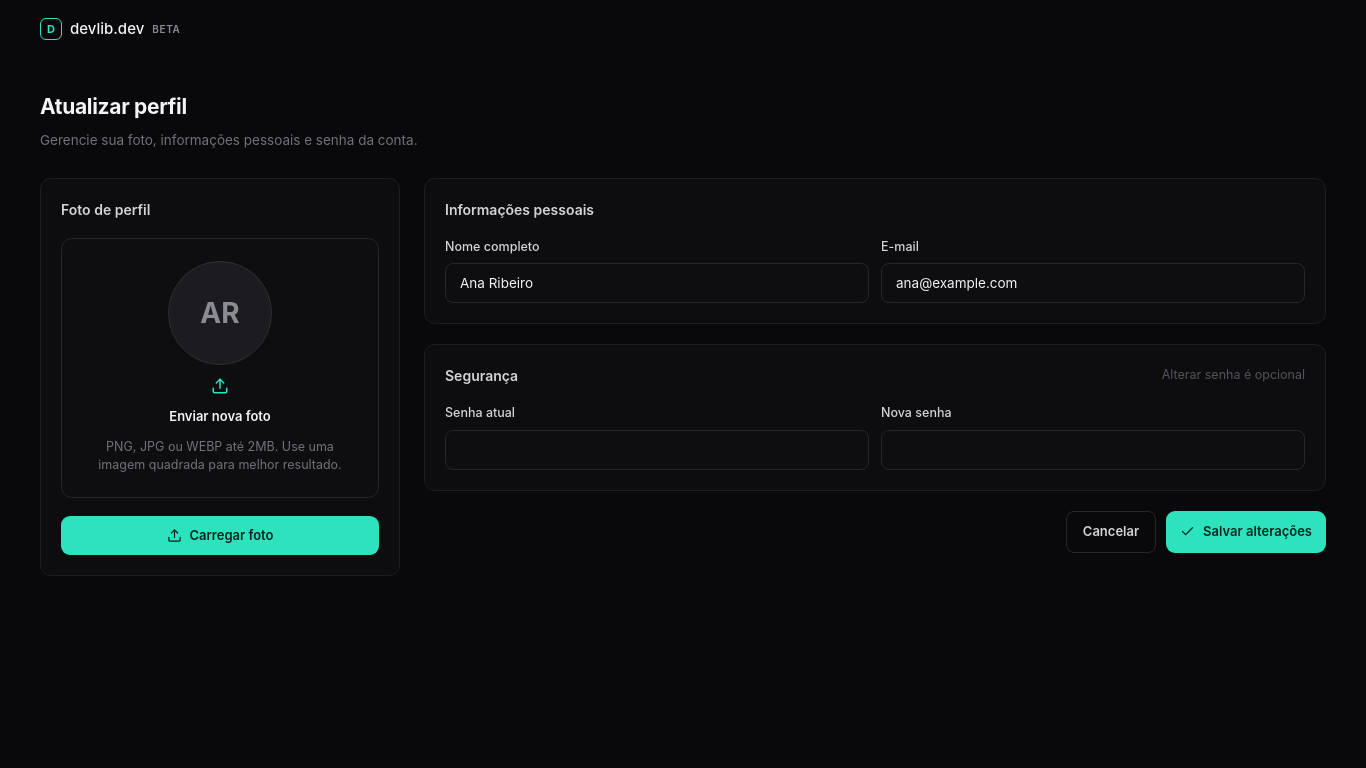
Test case: ProfilePage › mostra a mensagem de erro da API quando salvar falha (ex: senha atual incorreta)
The image size is (1366, 768).
Expected: the field showing "Ana Ribeiro" is shown, x1=445 y1=263 x2=869 y2=303
In the password field labelled "Senha atual": [657, 450] box x1=445 y1=430 x2=869 y2=470, type "senha-errada"
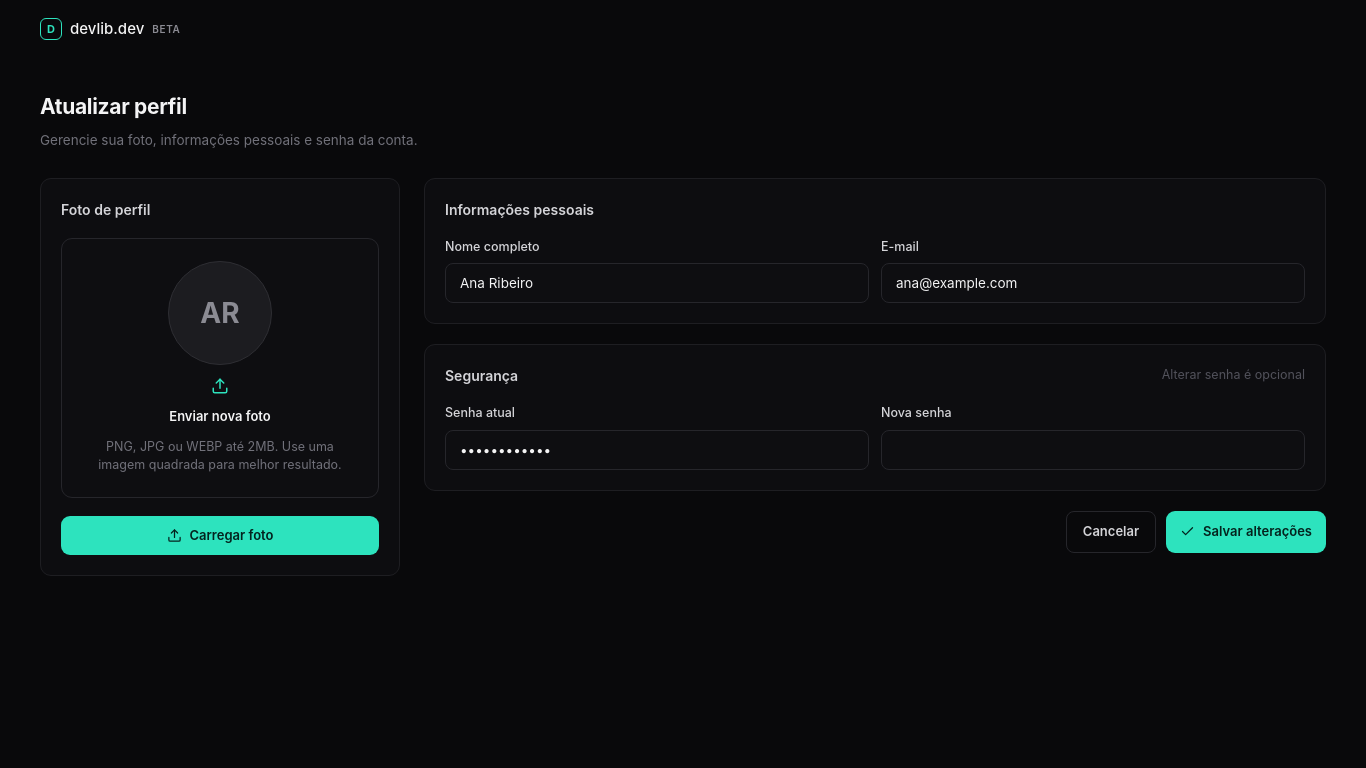
In the password field labelled "Nova senha": [1093, 450] box x1=881 y1=430 x2=1305 y2=470, type "senha-nova-456"
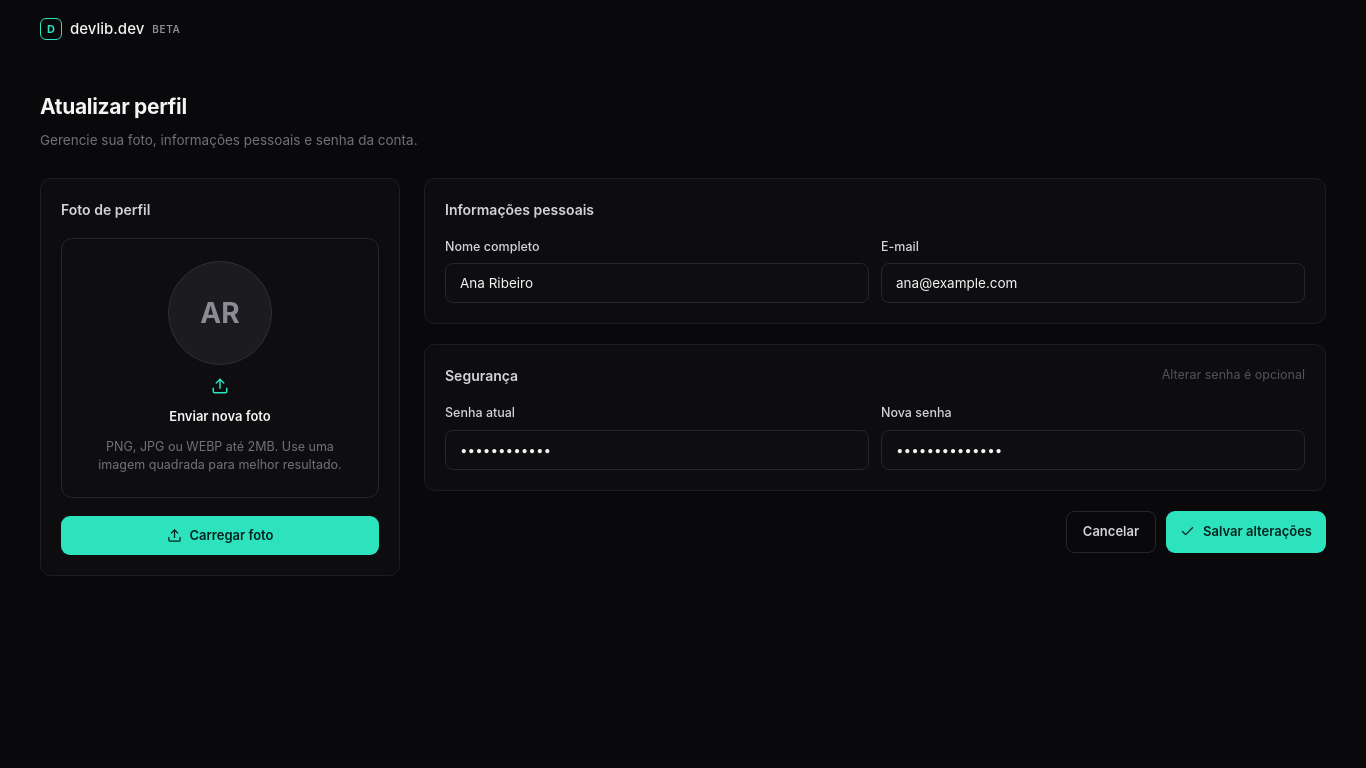
Click the button "Salvar alterações": [1246, 532] box x1=1166 y1=511 x2=1326 y2=553
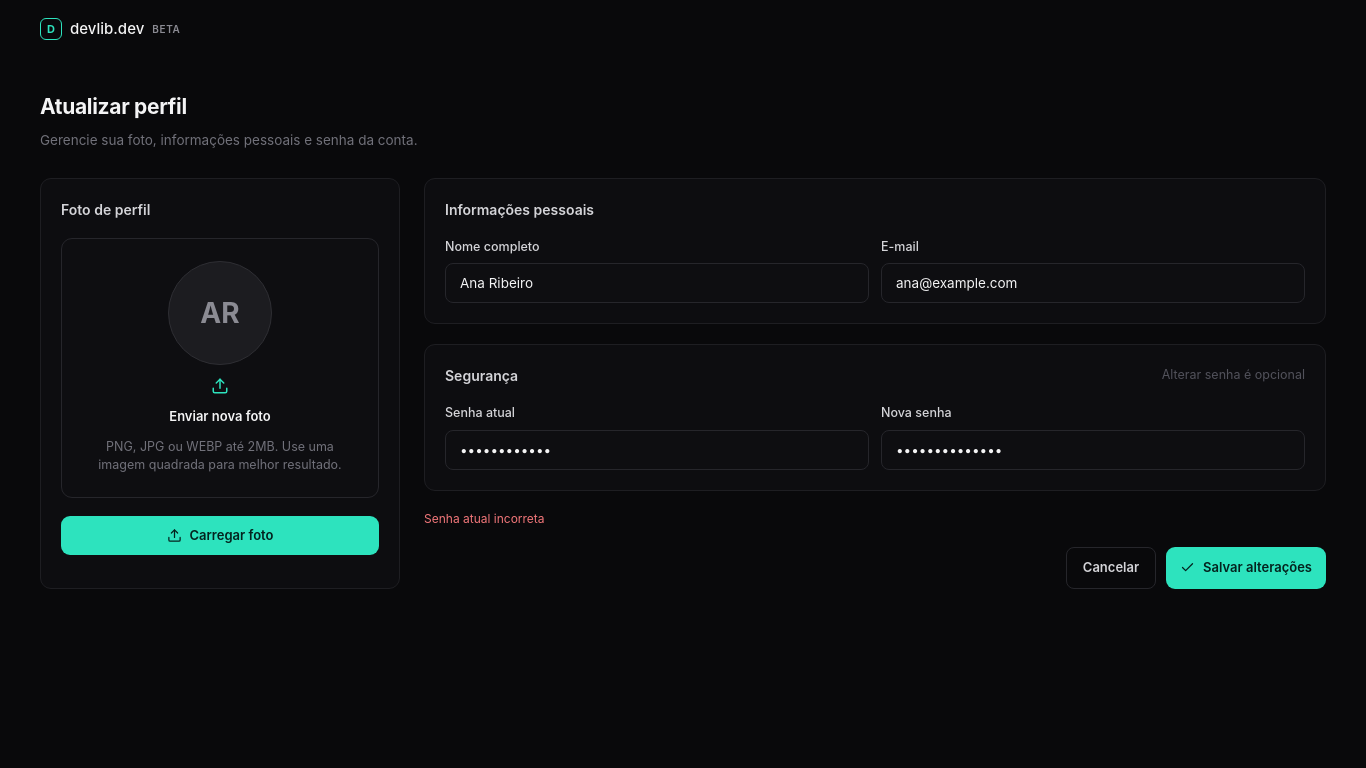
Expected: the text "Senha atual incorreta" is shown, x1=424 y1=511 x2=545 y2=526
